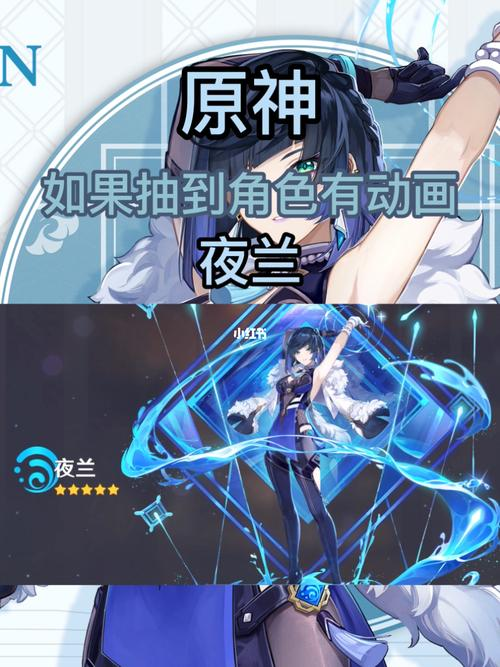夜兰: (61, 23, 500, 667), (263, 311, 385, 584)
